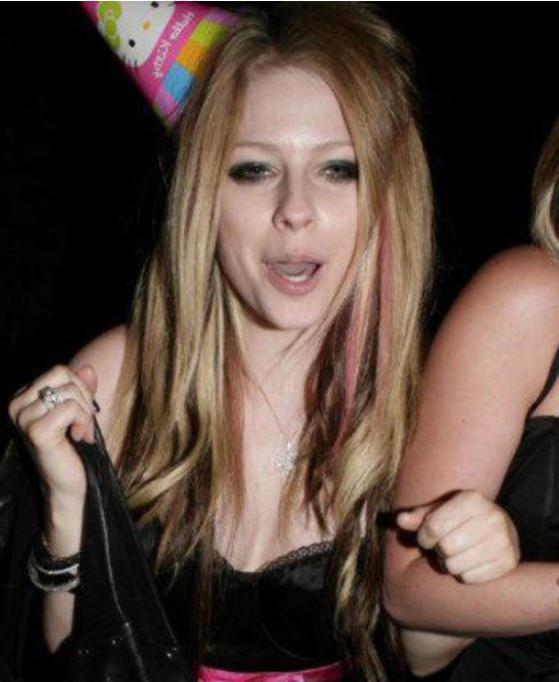Drunk: (226, 67, 365, 318)
